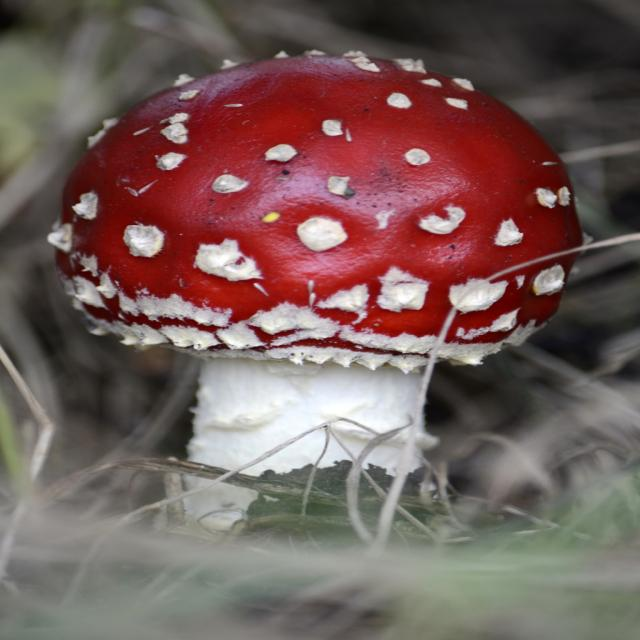Mushroom: (30, 22, 605, 480)
